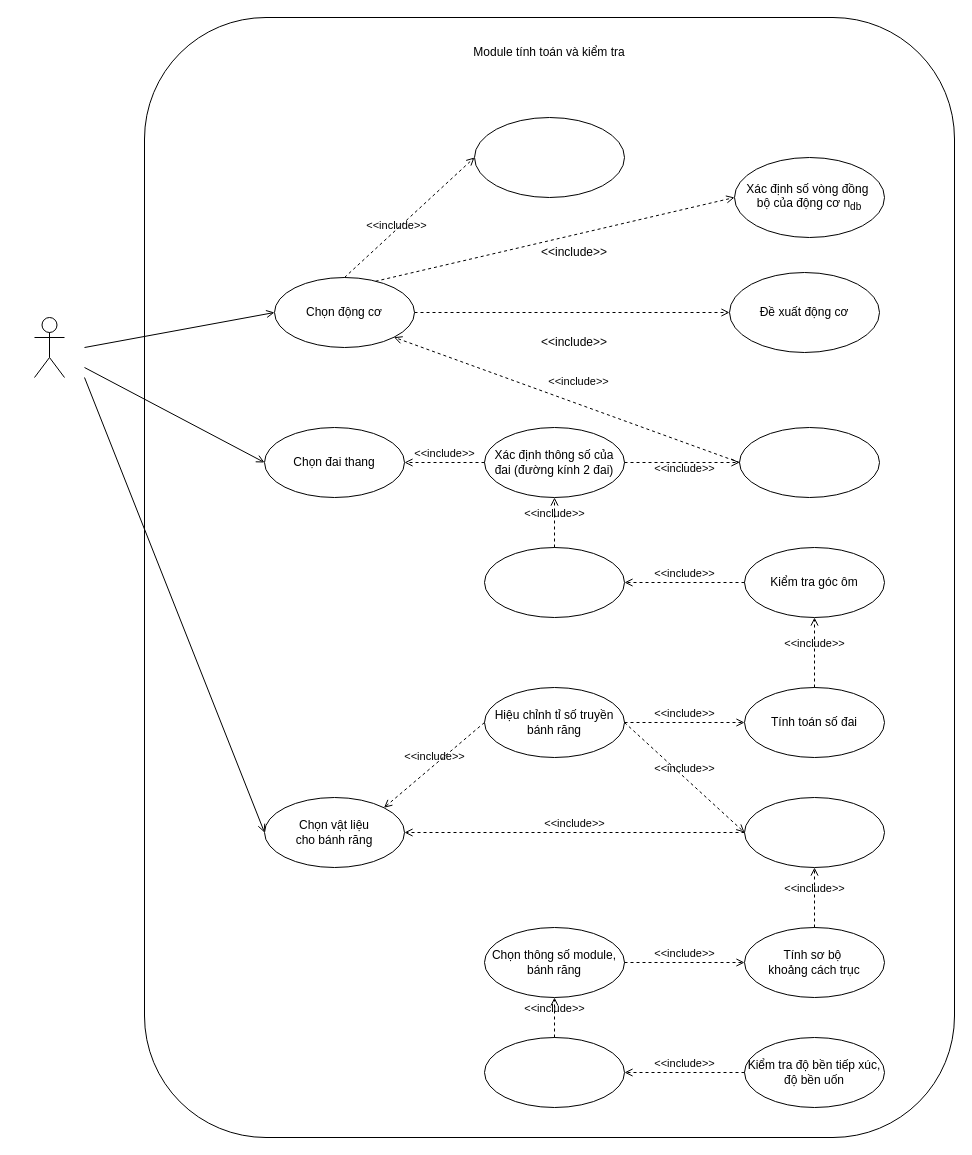
Some shapes in this 972 by 1155 pixel diagram are drawn without their labels. Each missing label, with the centre of its shape:
Người dùng: point 49,347
Tính công suất cần thiết trên trục động cơ P ct: point 549,157
Tính kích thước vòng chia, vành răng: point 554,1072
Tính momem xoắn các trục: point 809,462
Tính toán khoảng cách trục, chiều dài đai: point 554,582
Tính ứng suất cho phép: point 814,832
